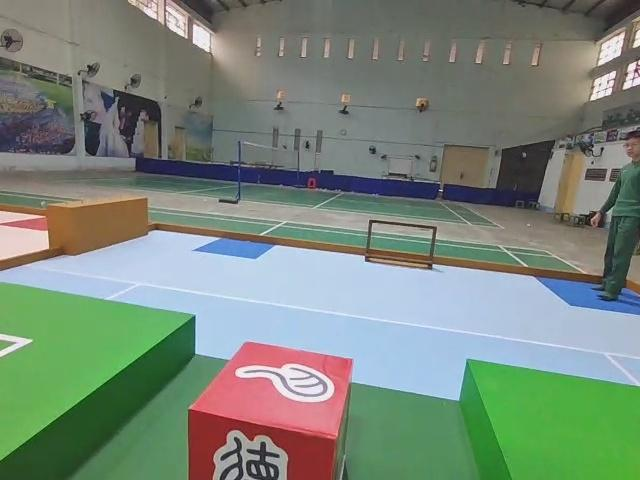R2 Fake: (185, 337, 356, 480)
